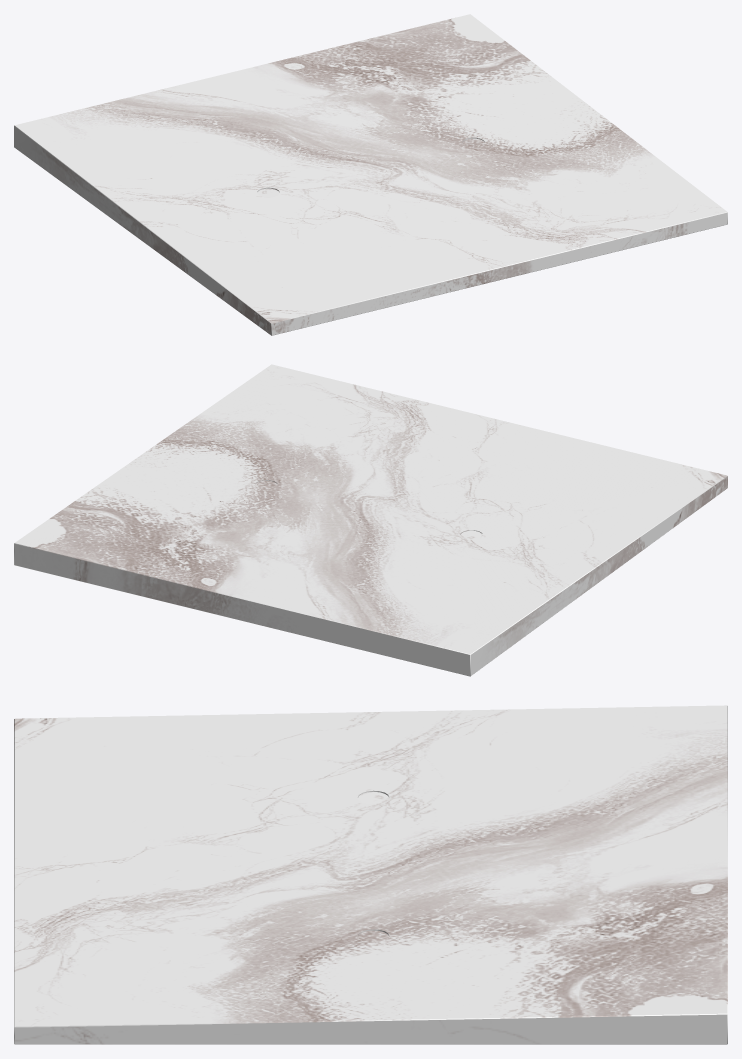
File: Shake_slate starter.obj
3 views of the same model, one above another, from view 1: azimuth 30°, elevation 25°; view 2: azimuth 150°, elevation 25°; view 3: azimuth 270°, elevation 25° (orthographic). The views are drawn at different scales.
Parts seen in each view (by area): view 1: STARTER_shake-slate_low_poly; view 2: STARTER_shake-slate_low_poly; view 3: STARTER_shake-slate_low_poly.
Boxes of the visible parts, x1,y1,x2,y2 form: STARTER_shake-slate_low_poly: (14,14,727,335); STARTER_shake-slate_low_poly: (14,364,727,676); STARTER_shake-slate_low_poly: (14,705,727,1044).
Size of the model in its own units: 31.75 by 1.48 by 31.02.
